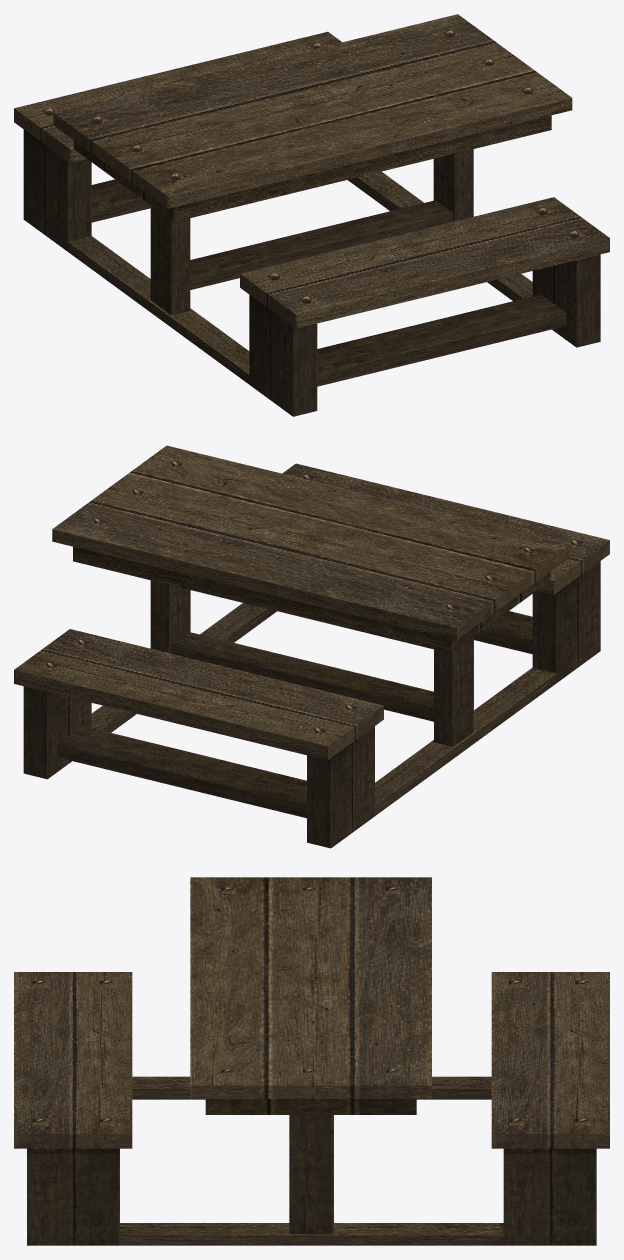
Rendered from mm9_deco_tablebench2.glb.
3 renders of one model, top to bottom at view 1: azimuth 30°, elevation 25°; view 2: azimuth 150°, elevation 25°; view 3: azimuth 270°, elevation 25°, orthographic. The views are drawn at different scales.
Parts seen in each view (by area): view 1: Tablebench2; view 2: Tablebench2; view 3: Tablebench2.
Part boxes in pixels (x1,y1,x2,y2): Tablebench2: (14, 14, 609, 416); Tablebench2: (14, 445, 609, 848); Tablebench2: (14, 877, 609, 1245).
Bounding box in the file's own units: 2.64 × 1.11 × 3.18.
2 materials, 2 textured.
